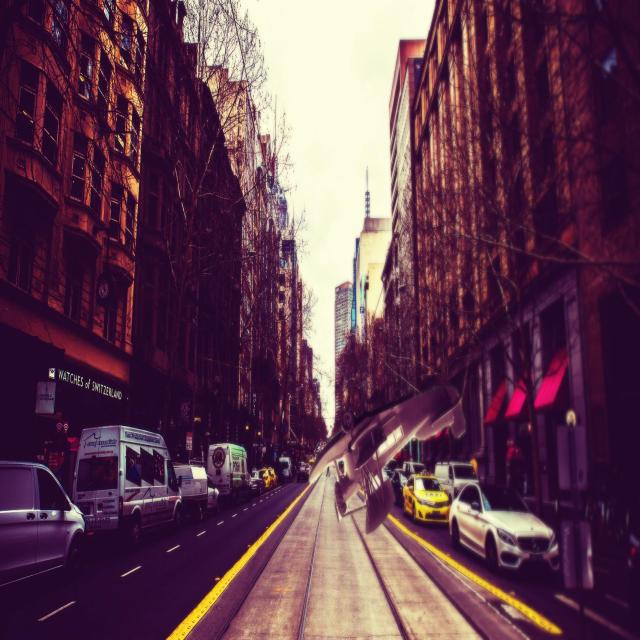airplane: (308, 383, 466, 534)
